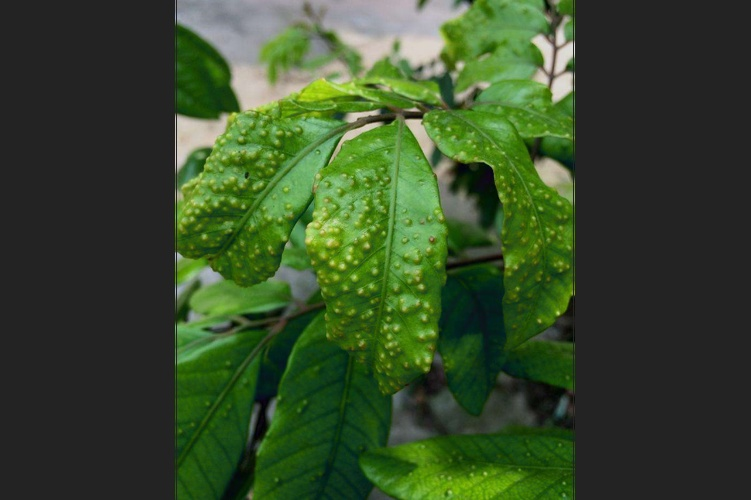Gall_Mite: (318, 145, 432, 375), (179, 93, 305, 267), (474, 116, 557, 339)
